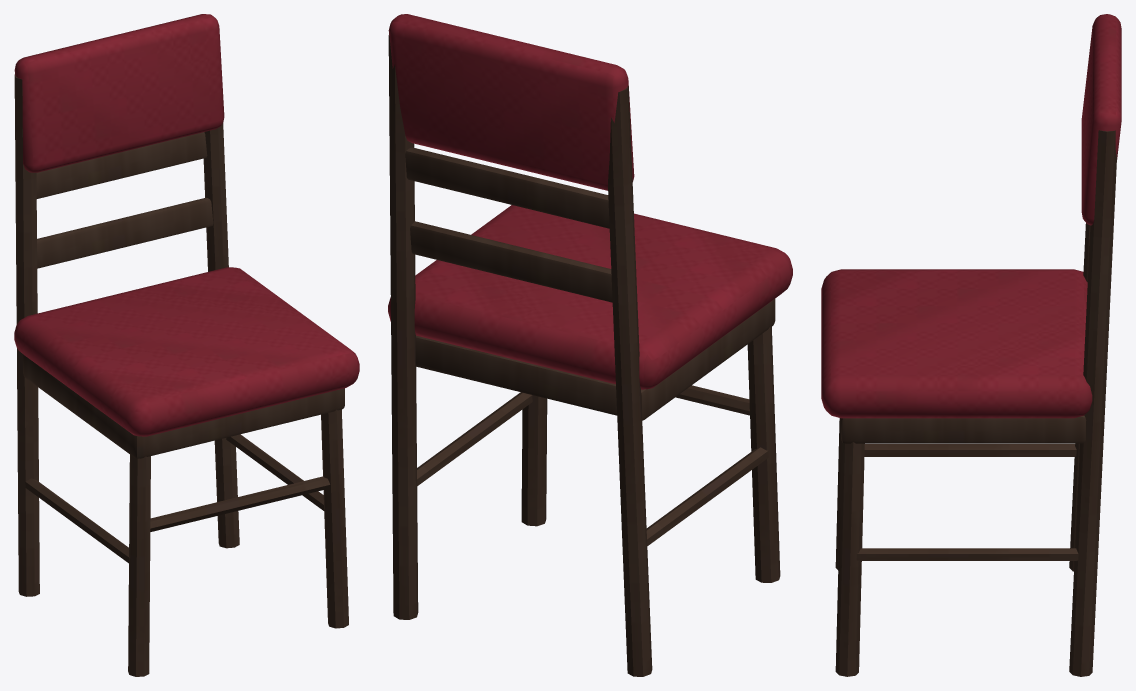
The model's file is cadeira.glb.
The picture shows the model from 3 angles, left to right: view 1: azimuth 30°, elevation 25°; view 2: azimuth 150°, elevation 25°; view 3: azimuth 270°, elevation 25°; orthographic projection. The views are drawn at different scales.
Parts seen in each view (by area): view 1: assento, encosto, pe-tras, saia, ripa-encosto, pe-tras.001, pe-frente, pe-frente.001, ripa-encosto.001, travessa-frente, travessa-lado, travessa-lado.001; view 2: assento, encosto, pe-tras, pe-tras.001, saia, ripa-encosto.001, ripa-encosto, pe-frente, pe-frente.001, travessa-lado, travessa-lado.001, travessa-frente; view 3: assento, pe-tras.001, saia, encosto, pe-frente.001, travessa-lado.001, travessa-lado, pe-tras, pe-frente.
Part boxes in pixels (bbox=[...]): assento: bbox=[14, 267, 359, 436]; encosto: bbox=[14, 14, 224, 172]; pe-tras: bbox=[14, 74, 39, 596]; saia: bbox=[23, 354, 344, 458]; ripa-encosto: bbox=[37, 197, 213, 268]; pe-tras.001: bbox=[203, 123, 239, 548]; pe-frente: bbox=[128, 454, 150, 676]; pe-frente.001: bbox=[321, 409, 348, 628]; ripa-encosto.001: bbox=[36, 132, 207, 198]; travessa-frente: bbox=[150, 476, 330, 531]; travessa-lado: bbox=[25, 478, 129, 563]; travessa-lado.001: bbox=[226, 434, 324, 510]; assento: bbox=[388, 205, 792, 389]; encosto: bbox=[388, 14, 634, 190]; pe-tras: bbox=[608, 85, 652, 676]; pe-tras.001: bbox=[388, 35, 418, 619]; saia: bbox=[415, 299, 775, 420]; ripa-encosto.001: bbox=[405, 147, 609, 228]; ripa-encosto: bbox=[410, 221, 612, 302]; pe-frente: bbox=[747, 326, 780, 582]; pe-frente.001: bbox=[521, 395, 547, 526]; travessa-lado: bbox=[646, 447, 768, 545]; travessa-lado.001: bbox=[417, 392, 532, 485]; travessa-frente: bbox=[675, 385, 749, 415]; assento: bbox=[821, 269, 1092, 418]; pe-tras.001: bbox=[1069, 130, 1117, 676]; saia: bbox=[841, 415, 1086, 443]; encosto: bbox=[1081, 14, 1121, 225]; pe-frente.001: bbox=[835, 441, 864, 676]; travessa-lado.001: bbox=[856, 548, 1078, 560]; travessa-lado: bbox=[864, 444, 1076, 456]; pe-tras: bbox=[1069, 223, 1089, 571]; pe-frente: bbox=[835, 418, 841, 570].
Size of the model in its own units: 0.44 by 0.9505 by 0.4627.
Materials: 2 (2 with a texture image).
